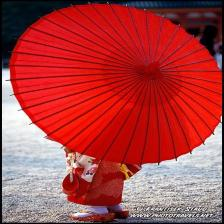red: (9, 4, 222, 165)
